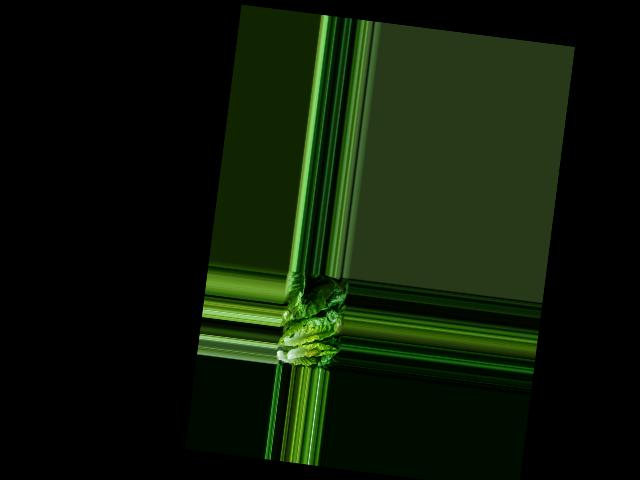lettuce: (274, 302, 341, 370)
